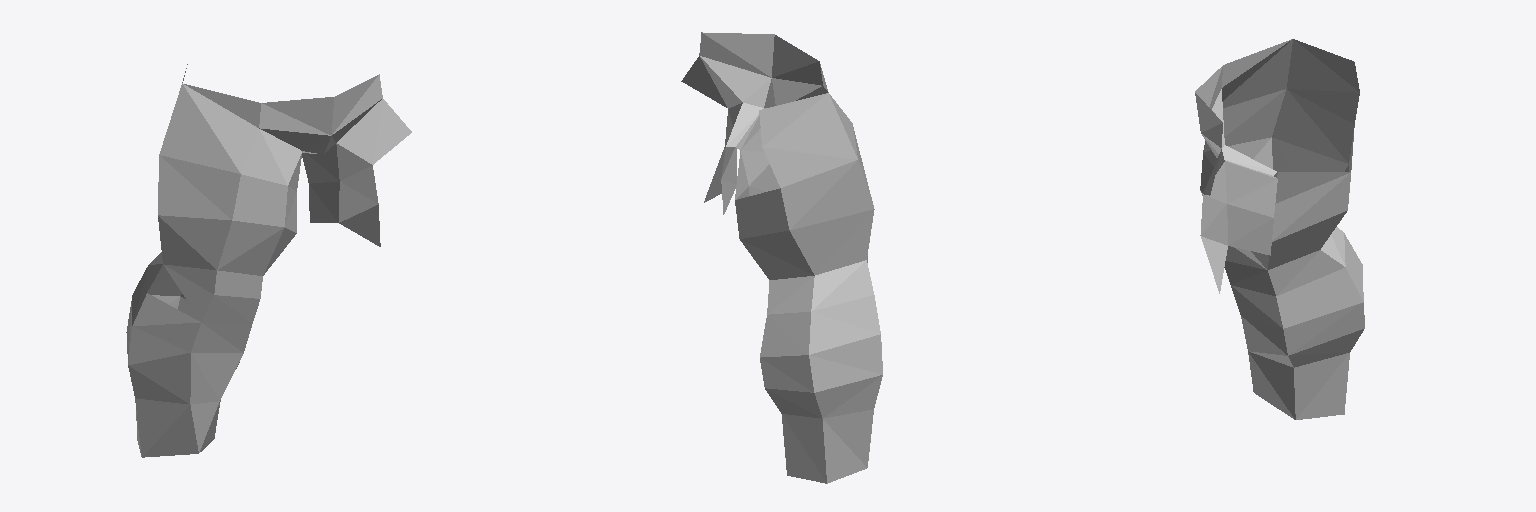
File: piernaDerecha.obj
3 views of the same model, side by side, from view 1: azimuth 30°, elevation 25°; view 2: azimuth 150°, elevation 25°; view 3: azimuth 270°, elevation 25° (orthographic).
Visible parts, largest first — view 1: Geoset_023-Trousers_sep1167, Geoset_023-Trousers_sep1144, Geoset_023-Trousers_sep1166, Geoset_023-Trousers_sep1145, Geoset_023-Trousers_sep1125, Geoset_024-Boots_sep1278, Geoset_024-Boots_sep1244, Geoset_023-Trousers_sep1171, Geoset_024-Boots_sep1241, Geoset_023-Trousers_sep1118, Geoset_023-Trousers_sep1191, Geoset_023-Trousers_sep1121 (+28 smaller); view 2: Geoset_023-Trousers_sep1163, Geoset_023-Trousers_sep1142, Geoset_023-Trousers_sep1129, Geoset_023-Trousers_sep1160, Geoset_023-Trousers_sep1135, Geoset_023-Trousers_sep1173, Geoset_024-Boots_sep1264, Geoset_024-Boots_sep1247, Geoset_024-Boots_sep1267, Geoset_024-Boots_sep1246, Geoset_024-Boots_sep1268, Geoset_024-Boots_sep1245 (+26 smaller); view 3: Geoset_023-Trousers_sep1142, Geoset_023-Trousers_sep1163, Geoset_023-Trousers_sep1167, Geoset_024-Boots_sep1250, Geoset_024-Boots_sep1249, Geoset_024-Boots_sep1251, Geoset_023-Trousers_sep1135, Geoset_023-Trousers_sep1141, Geoset_024-Boots_sep1256, Geoset_023-Trousers_sep1143, Geoset_023-Trousers_sep1144, Geoset_023-Trousers_sep1129 (+25 smaller).
Boxes of the visible parts, x1,y1,x2,y2 form: Geoset_023-Trousers_sep1167: [159, 84, 240, 173]; Geoset_023-Trousers_sep1144: [158, 155, 230, 219]; Geoset_023-Trousers_sep1166: [182, 83, 258, 172]; Geoset_023-Trousers_sep1145: [160, 155, 240, 219]; Geoset_023-Trousers_sep1125: [158, 215, 231, 269]; Geoset_024-Boots_sep1278: [128, 353, 190, 403]; Geoset_024-Boots_sep1244: [135, 398, 189, 456]; Geoset_023-Trousers_sep1171: [262, 97, 333, 135]; Geoset_024-Boots_sep1241: [142, 405, 198, 457]; Geoset_023-Trousers_sep1118: [217, 221, 284, 269]; Geoset_023-Trousers_sep1191: [337, 99, 382, 164]; Geoset_023-Trousers_sep1121: [158, 216, 215, 269]; Geoset_023-Trousers_sep1163: [763, 93, 857, 159]; Geoset_023-Trousers_sep1142: [791, 161, 873, 229]; Geoset_023-Trousers_sep1129: [790, 209, 873, 274]; Geoset_023-Trousers_sep1160: [762, 147, 855, 187]; Geoset_023-Trousers_sep1135: [781, 160, 857, 229]; Geoset_023-Trousers_sep1173: [702, 32, 774, 77]; Geoset_024-Boots_sep1264: [809, 312, 879, 354]; Geoset_024-Boots_sep1247: [823, 409, 873, 467]; Geoset_024-Boots_sep1267: [810, 334, 882, 374]; Geoset_024-Boots_sep1246: [823, 420, 866, 483]; Geoset_024-Boots_sep1268: [809, 355, 881, 392]; Geoset_024-Boots_sep1245: [782, 414, 826, 482]; Geoset_023-Trousers_sep1142: [1272, 89, 1347, 163]; Geoset_023-Trousers_sep1163: [1287, 39, 1359, 92]; Geoset_023-Trousers_sep1167: [1222, 39, 1292, 107]; Geoset_024-Boots_sep1250: [1294, 353, 1348, 418]; Geoset_024-Boots_sep1249: [1296, 353, 1349, 419]; Geoset_024-Boots_sep1251: [1276, 267, 1362, 301]; Geoset_023-Trousers_sep1135: [1287, 89, 1354, 163]; Geoset_023-Trousers_sep1141: [1272, 173, 1350, 241]; Geoset_024-Boots_sep1256: [1276, 297, 1362, 328]; Geoset_023-Trousers_sep1143: [1272, 173, 1349, 240]; Geoset_023-Trousers_sep1144: [1224, 90, 1285, 145]; Geoset_023-Trousers_sep1129: [1273, 138, 1348, 171].
Bounding box in the file's own units: 0.7527 × 1.09 × 0.4567.